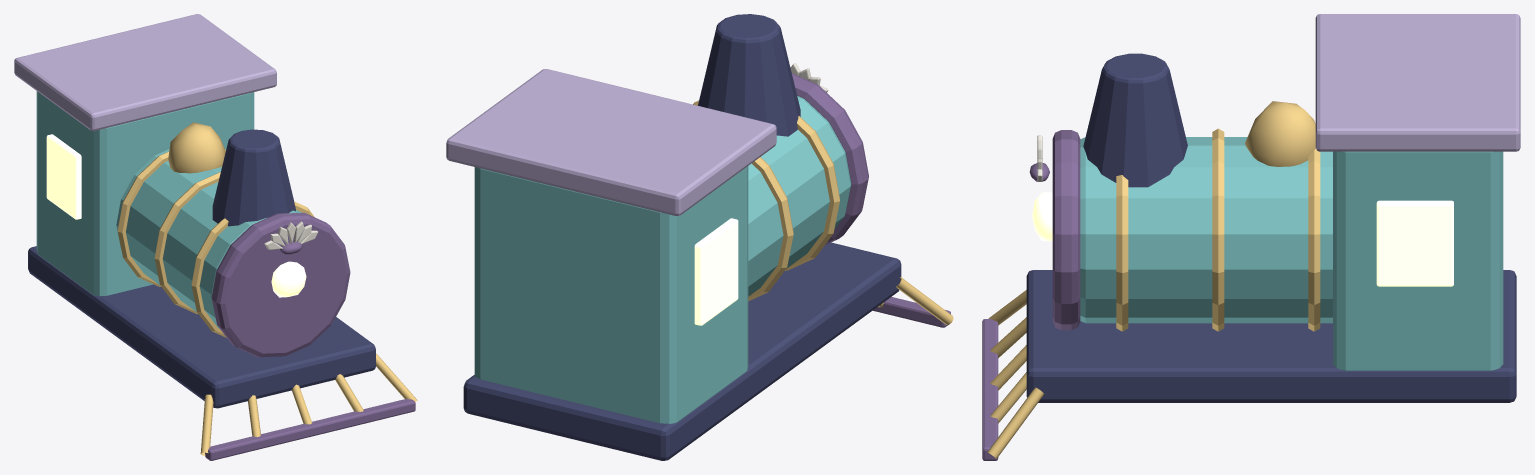
Rendered from lagoon_train_engine.glb.
3 views of the same model, side by side, from view 1: azimuth 30°, elevation 25°; view 2: azimuth 150°, elevation 25°; view 3: azimuth 270°, elevation 25° (orthographic). The views are drawn at different scales.
Visible parts, largest first — view 1: lagoon_train_engine.001; view 2: lagoon_train_engine.001; view 3: lagoon_train_engine.001.
Boxes of the visible parts, left/top/right/bottom form: lagoon_train_engine.001: left=14, top=14, right=417, bottom=460; lagoon_train_engine.001: left=446, top=14, right=953, bottom=460; lagoon_train_engine.001: left=982, top=14, right=1520, bottom=460.
Size of the model in its own units: 6.08 by 6.85 by 10.1.
